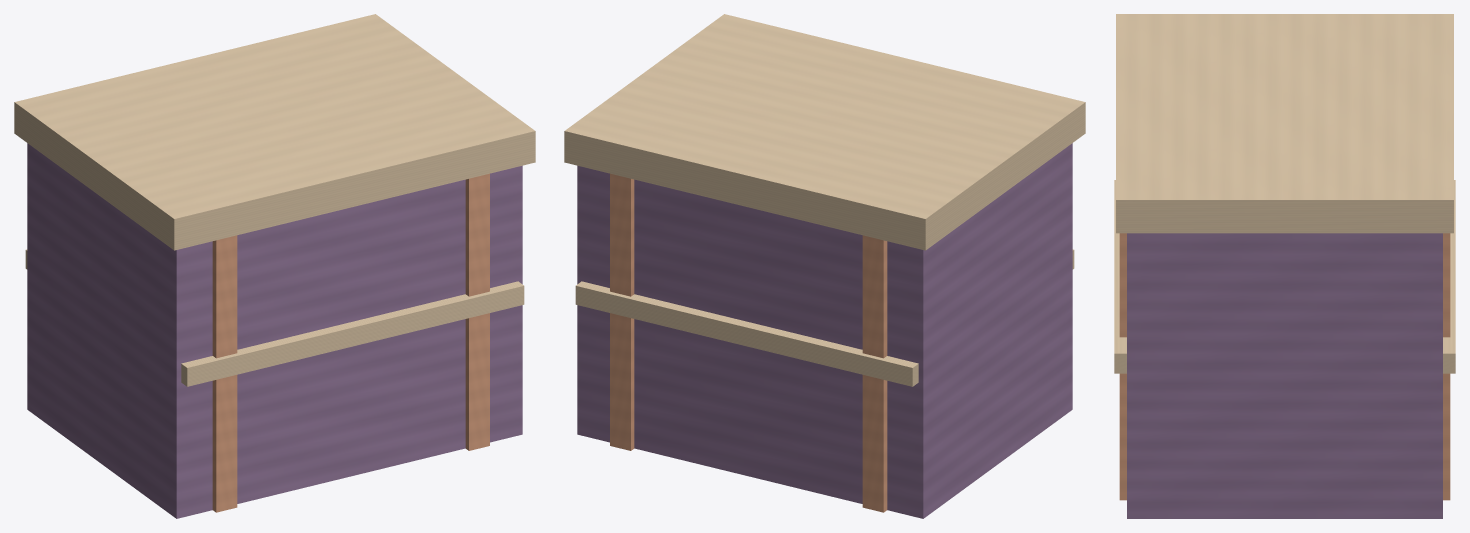
File: atlas100-papercraft-util02.lod1.glb
3 views of the same model, side by side, from view 1: azimuth 30°, elevation 25°; view 2: azimuth 150°, elevation 25°; view 3: azimuth 270°, elevation 25° (orthographic). The views are drawn at different scales.
Visible parts, largest first — view 1: atlas100-papercraft-util02:part-000, atlas100-papercraft-util02:part-005, atlas100-papercraft-util02:part-004, atlas100-papercraft-util02:part-001, atlas100-papercraft-util02:part-002; view 2: atlas100-papercraft-util02:part-000, atlas100-papercraft-util02:part-005, atlas100-papercraft-util02:part-003, atlas100-papercraft-util02:part-001, atlas100-papercraft-util02:part-002; view 3: atlas100-papercraft-util02:part-000, atlas100-papercraft-util02:part-005, atlas100-papercraft-util02:part-002, atlas100-papercraft-util02:part-003, atlas100-papercraft-util02:part-004.
Part boxes in pixels (<box>): atlas100-papercraft-util02:part-000: <box>27,143,522,518</box>; atlas100-papercraft-util02:part-005: <box>14,14,535,250</box>; atlas100-papercraft-util02:part-004: <box>181,281,524,386</box>; atlas100-papercraft-util02:part-001: <box>212,235,237,512</box>; atlas100-papercraft-util02:part-002: <box>465,173,489,450</box>; atlas100-papercraft-util02:part-000: <box>577,143,1072,518</box>; atlas100-papercraft-util02:part-005: <box>564,14,1085,250</box>; atlas100-papercraft-util02:part-003: <box>575,281,918,386</box>; atlas100-papercraft-util02:part-001: <box>862,235,887,512</box>; atlas100-papercraft-util02:part-002: <box>610,173,634,450</box>; atlas100-papercraft-util02:part-000: <box>1127,233,1442,518</box>; atlas100-papercraft-util02:part-005: <box>1116,14,1453,233</box>; atlas100-papercraft-util02:part-002: <box>1119,233,1450,500</box>; atlas100-papercraft-util02:part-003: <box>1443,180,1455,373</box>; atlas100-papercraft-util02:part-004: <box>1114,180,1126,373</box>.
Size of the model in its own units: 1.34 by 1.08 by 1.04.
3 materials, 3 textured.
